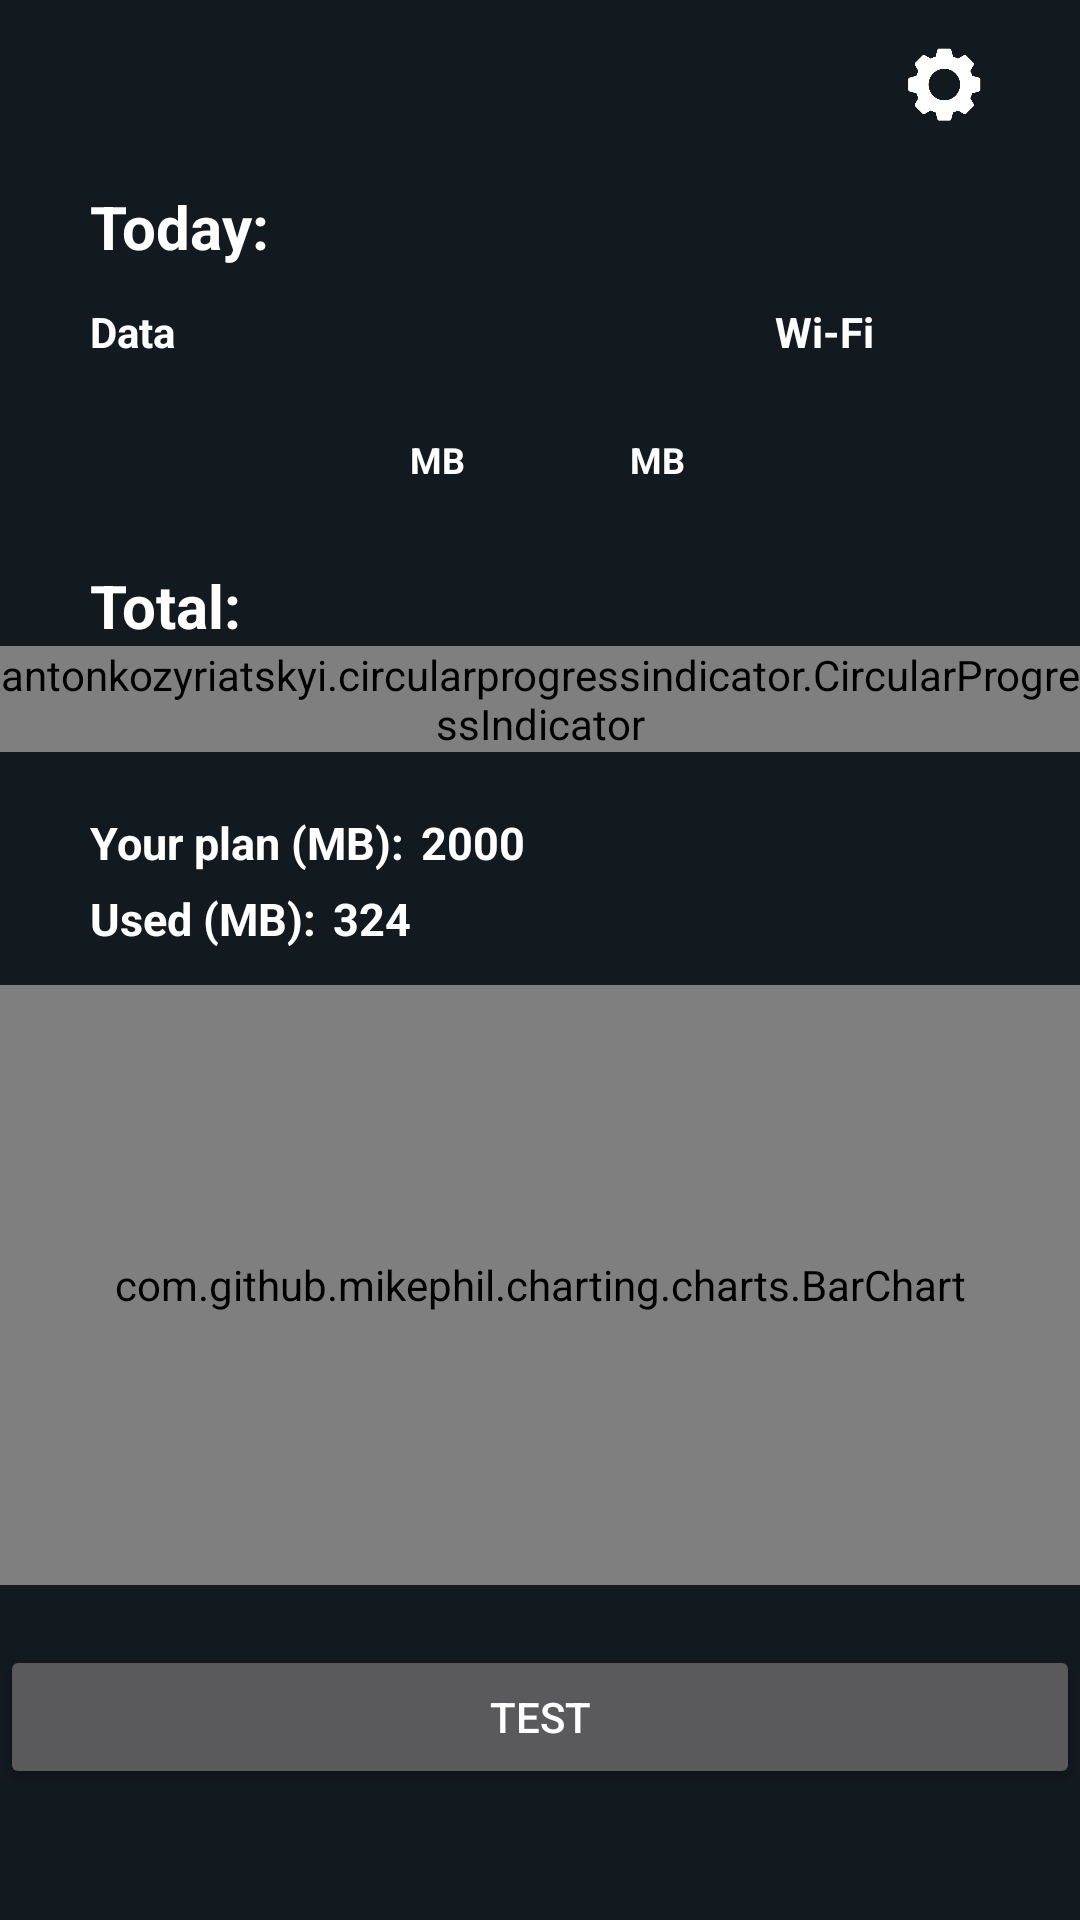

Icons on this 1080px x 1920px Android screen, each with its box as (x1, y1, x2, y2):
Settings button: (908, 48, 981, 121)
